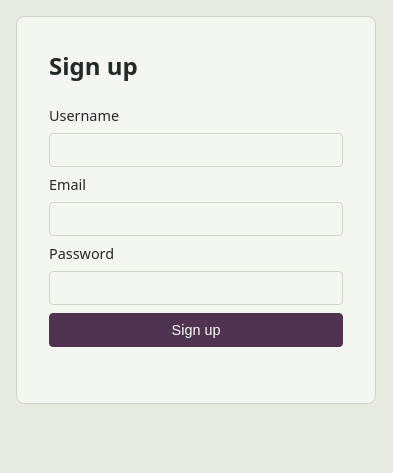
Test: Signup error branches › shows a rate-limit message on a 429 response
Step 1. Type "antonio" into the field labelled "Username" → (196, 150), box [49,133,343,167]
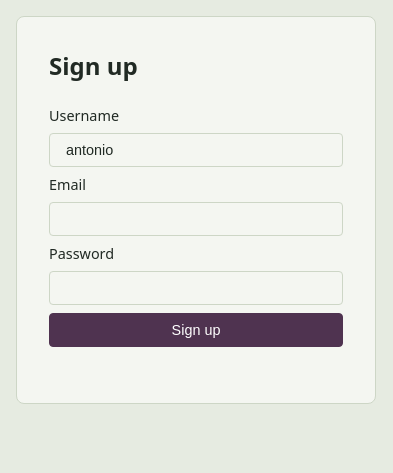
Step 2. Type "antonio@example.com" into the field labelled "Email" → (196, 219), box [49,202,343,236]
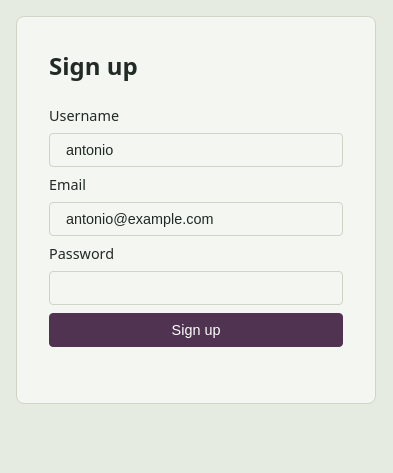
Step 3. Type "longenoughpassword" into the password field labelled "Password" → (196, 288), box [49,271,343,305]
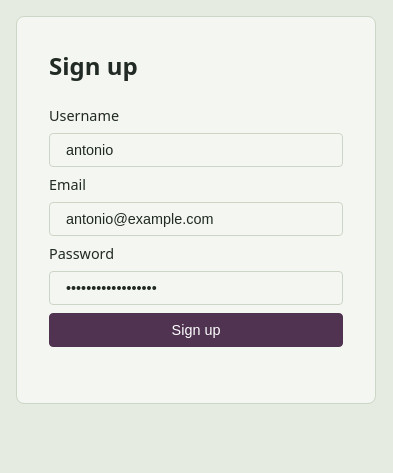
Step 4. Click the button "Sign up" → (196, 330), box [49,313,343,347]
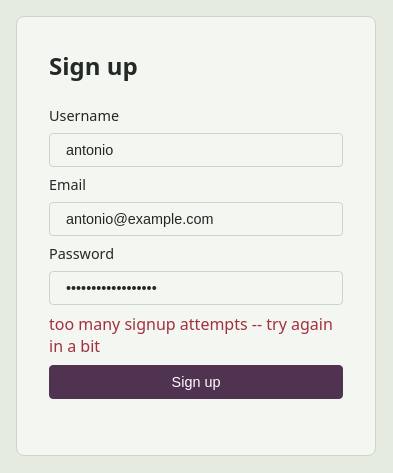
Check: the message shows "too many signup attempts", box [49,313,333,357]
